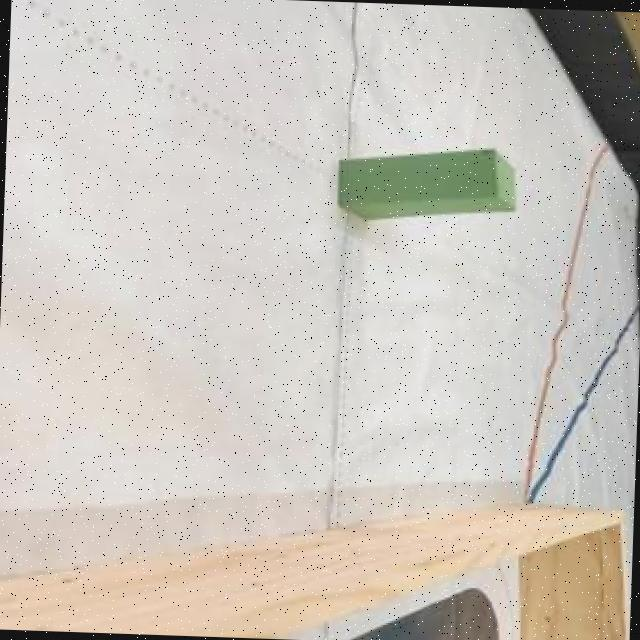greenbox: (334, 148, 516, 222)
